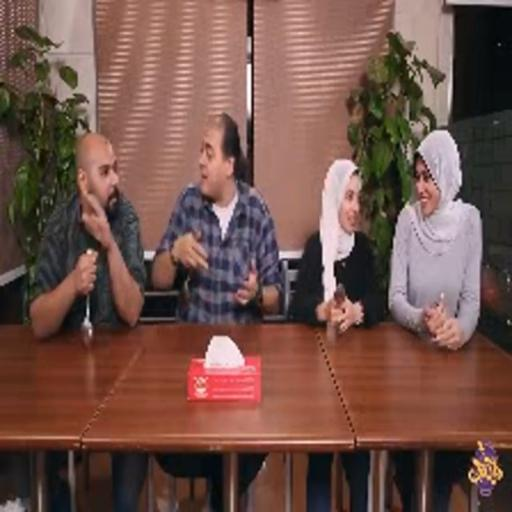nao-violencia: (16, 110, 294, 341), (284, 124, 488, 358)
